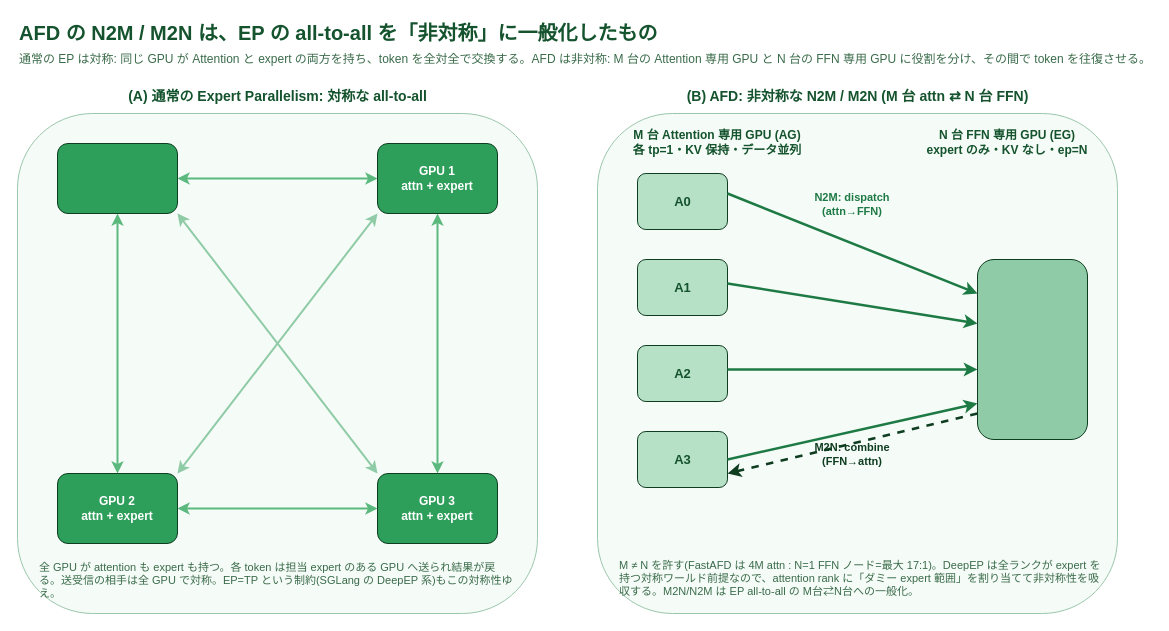
Image size: 1169x631. Some labels were removed from this diagram. Here are the shapes that lost their labels. From the top down, the centre of each, then its label:
pixel 117 178: GPU 0 attn + expert
pixel 1032 349: F0 expert 群 (ep=N)
